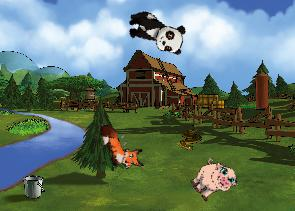fox: (97, 116, 147, 176)
panda: (122, 7, 189, 57)
pig: (185, 152, 241, 208)
